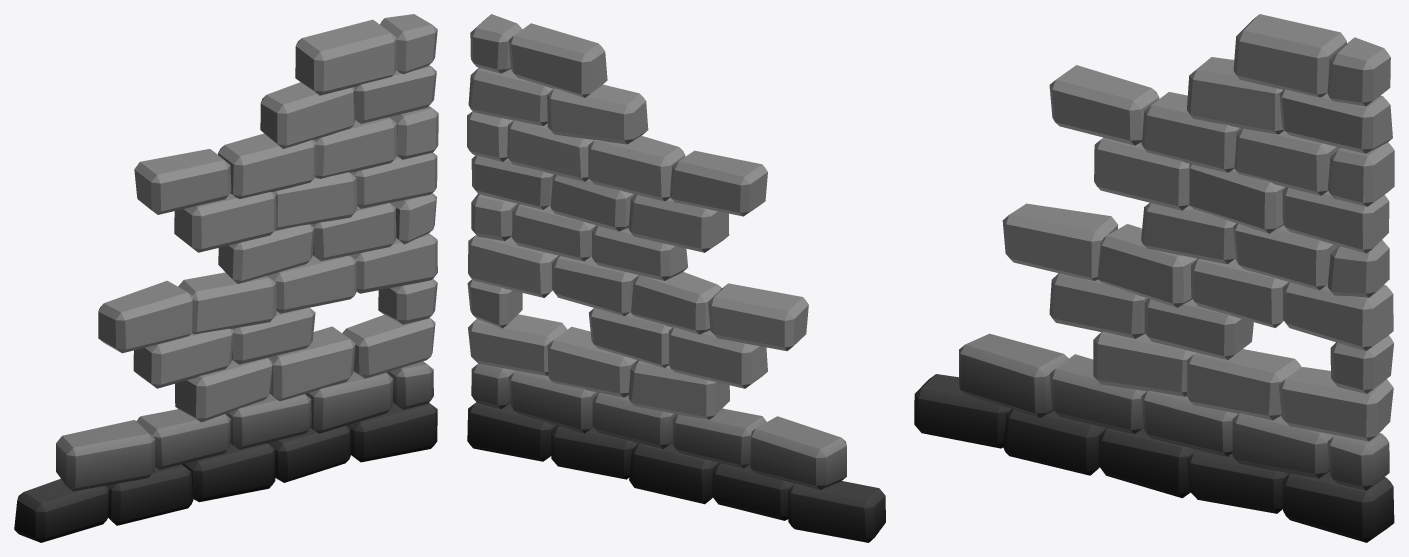
The model's file is BrickWall2x2_01_Solo_Broken_L.fbx.
3 renders of one model, left to right at view 1: azimuth 30°, elevation 25°; view 2: azimuth 150°, elevation 25°; view 3: azimuth 330°, elevation 25°, orthographic. The views are drawn at different scales.
Visible parts, largest first — view 1: BrickWall2x2_01_Solo_Broken_L; view 2: BrickWall2x2_01_Solo_Broken_L; view 3: BrickWall2x2_01_Solo_Broken_L.
Part boxes in pixels (x1,y1,x2,y2): BrickWall2x2_01_Solo_Broken_L: [14, 14, 438, 542]; BrickWall2x2_01_Solo_Broken_L: [467, 14, 885, 542]; BrickWall2x2_01_Solo_Broken_L: [914, 14, 1394, 542].
Bounding box in the file's own units: 202 × 202 × 25.45.
